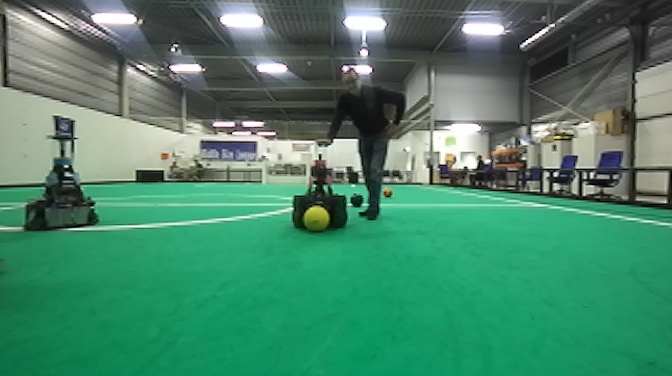ball: (302, 205, 331, 235), (349, 192, 365, 208), (380, 186, 395, 199)
goal: (261, 163, 309, 187)
goalpost: (261, 163, 268, 186), (304, 162, 309, 187)
human: (315, 64, 405, 224)
robot: (21, 112, 99, 233), (290, 143, 349, 232)
